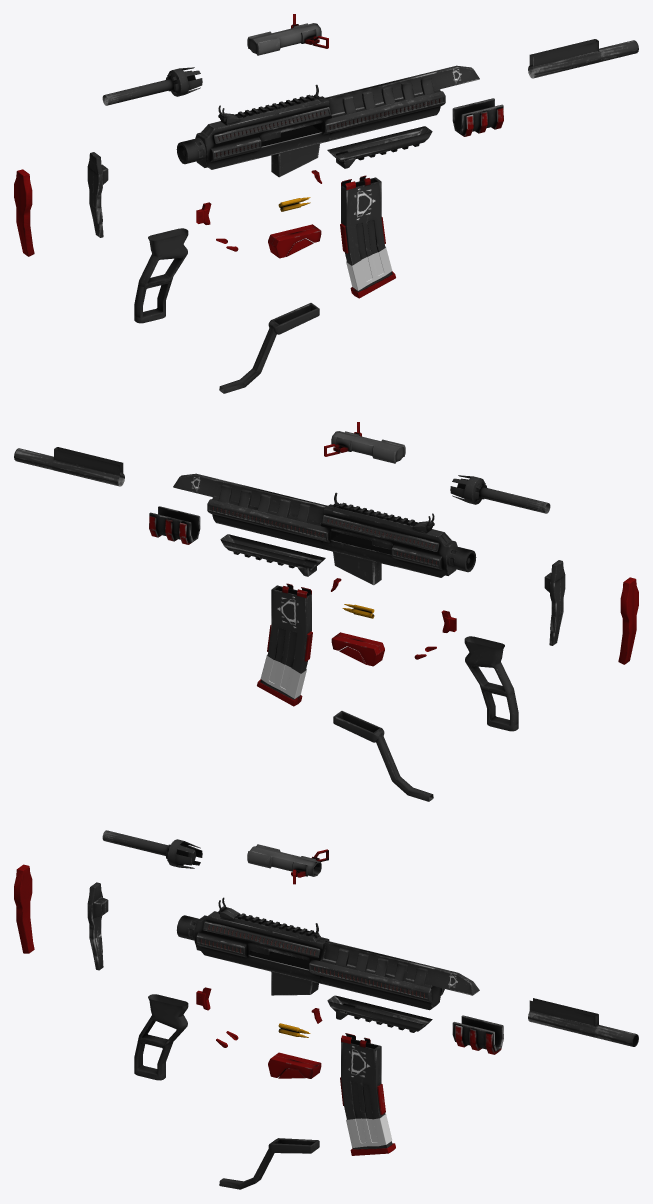
3 views of the same model, one above another, from view 1: azimuth 30°, elevation 25°; view 2: azimuth 150°, elevation 25°; view 3: azimuth 330°, elevation 25° (orthographic).
Visible parts, largest first — view 1: Body.002, Mag_Mesh.001, SidePanels, HandleLight_Mesh.001, Barrel.001, BottomRail.001, MagConnector_Mesh.001, StockLight_Mesh.001, Thing_Mesh.001, BarrelCover.001, StockLightPillow_Mesh.001, FireMode_Mesh.001 (+5 smaller); view 2: Body.002, Mag_Mesh.001, SidePanels, HandleLight_Mesh.001, Barrel.001, BottomRail.001, MagConnector_Mesh.001, StockLight_Mesh.001, Thing_Mesh.001, BarrelCover.001, StockLightPillow_Mesh.001, FireMode_Mesh.001 (+5 smaller); view 3: Body.002, Mag_Mesh.001, SidePanels, HandleLight_Mesh.001, Barrel.001, BottomRail.001, StockLight_Mesh.001, Thing_Mesh.001, BarrelCover.001, StockLightPillow_Mesh.001, MagConnector_Mesh.001, FireMode_Mesh.001 (+4 smaller).
Boxes of the visible parts, left/top/right/bottom form: Body.002: left=195, top=65, right=479, bottom=177; Mag_Mesh.001: left=340, top=175, right=395, bottom=298; SidePanels: left=210, top=91, right=445, bottom=162; HandleLight_Mesh.001: left=134, top=228, right=188, bottom=323; Barrel.001: left=528, top=39, right=638, bottom=78; BottomRail.001: left=327, top=126, right=432, bottom=168; MagConnector_Mesh.001: left=219, top=303, right=319, bottom=393; StockLight_Mesh.001: left=102, top=67, right=202, bottom=105; Thing_Mesh.001: left=247, top=14, right=328, bottom=55; BarrelCover.001: left=452, top=98, right=503, bottom=136; StockLightPillow_Mesh.001: left=14, top=169, right=34, bottom=256; FireMode_Mesh.001: left=216, top=224, right=321, bottom=258; Body.002: left=173, top=473, right=457, bottom=585; Mag_Mesh.001: left=257, top=583, right=312, bottom=706; SidePanels: left=207, top=499, right=442, bottom=570; HandleLight_Mesh.001: left=464, top=636, right=518, bottom=731; Barrel.001: left=14, top=447, right=124, bottom=486; BottomRail.001: left=220, top=534, right=325, bottom=576; MagConnector_Mesh.001: left=333, top=711, right=433, bottom=801; StockLight_Mesh.001: left=450, top=475, right=550, bottom=513; Thing_Mesh.001: left=324, top=422, right=405, bottom=463; BarrelCover.001: left=149, top=506, right=200, bottom=544; StockLightPillow_Mesh.001: left=618, top=577, right=638, bottom=664; FireMode_Mesh.001: left=331, top=632, right=436, bottom=666; Body.002: left=194, top=911, right=479, bottom=1010; Mag_Mesh.001: left=340, top=1033, right=395, bottom=1155; SidePanels: left=196, top=920, right=444, bottom=1002; HandleLight_Mesh.001: left=134, top=994, right=188, bottom=1080; Barrel.001: left=528, top=998, right=638, bottom=1046; BottomRail.001: left=327, top=995, right=432, bottom=1032; StockLight_Mesh.001: left=102, top=830, right=202, bottom=868; Thing_Mesh.001: left=247, top=844, right=328, bottom=884; BarrelCover.001: left=452, top=1015, right=503, bottom=1054; StockLightPillow_Mesh.001: left=14, top=864, right=34, bottom=953; MagConnector_Mesh.001: left=219, top=1138, right=319, bottom=1189; FireMode_Mesh.001: left=216, top=1031, right=321, bottom=1078.
Bounding box in the file's own units: 94.56 × 50.66 × 9.22.
